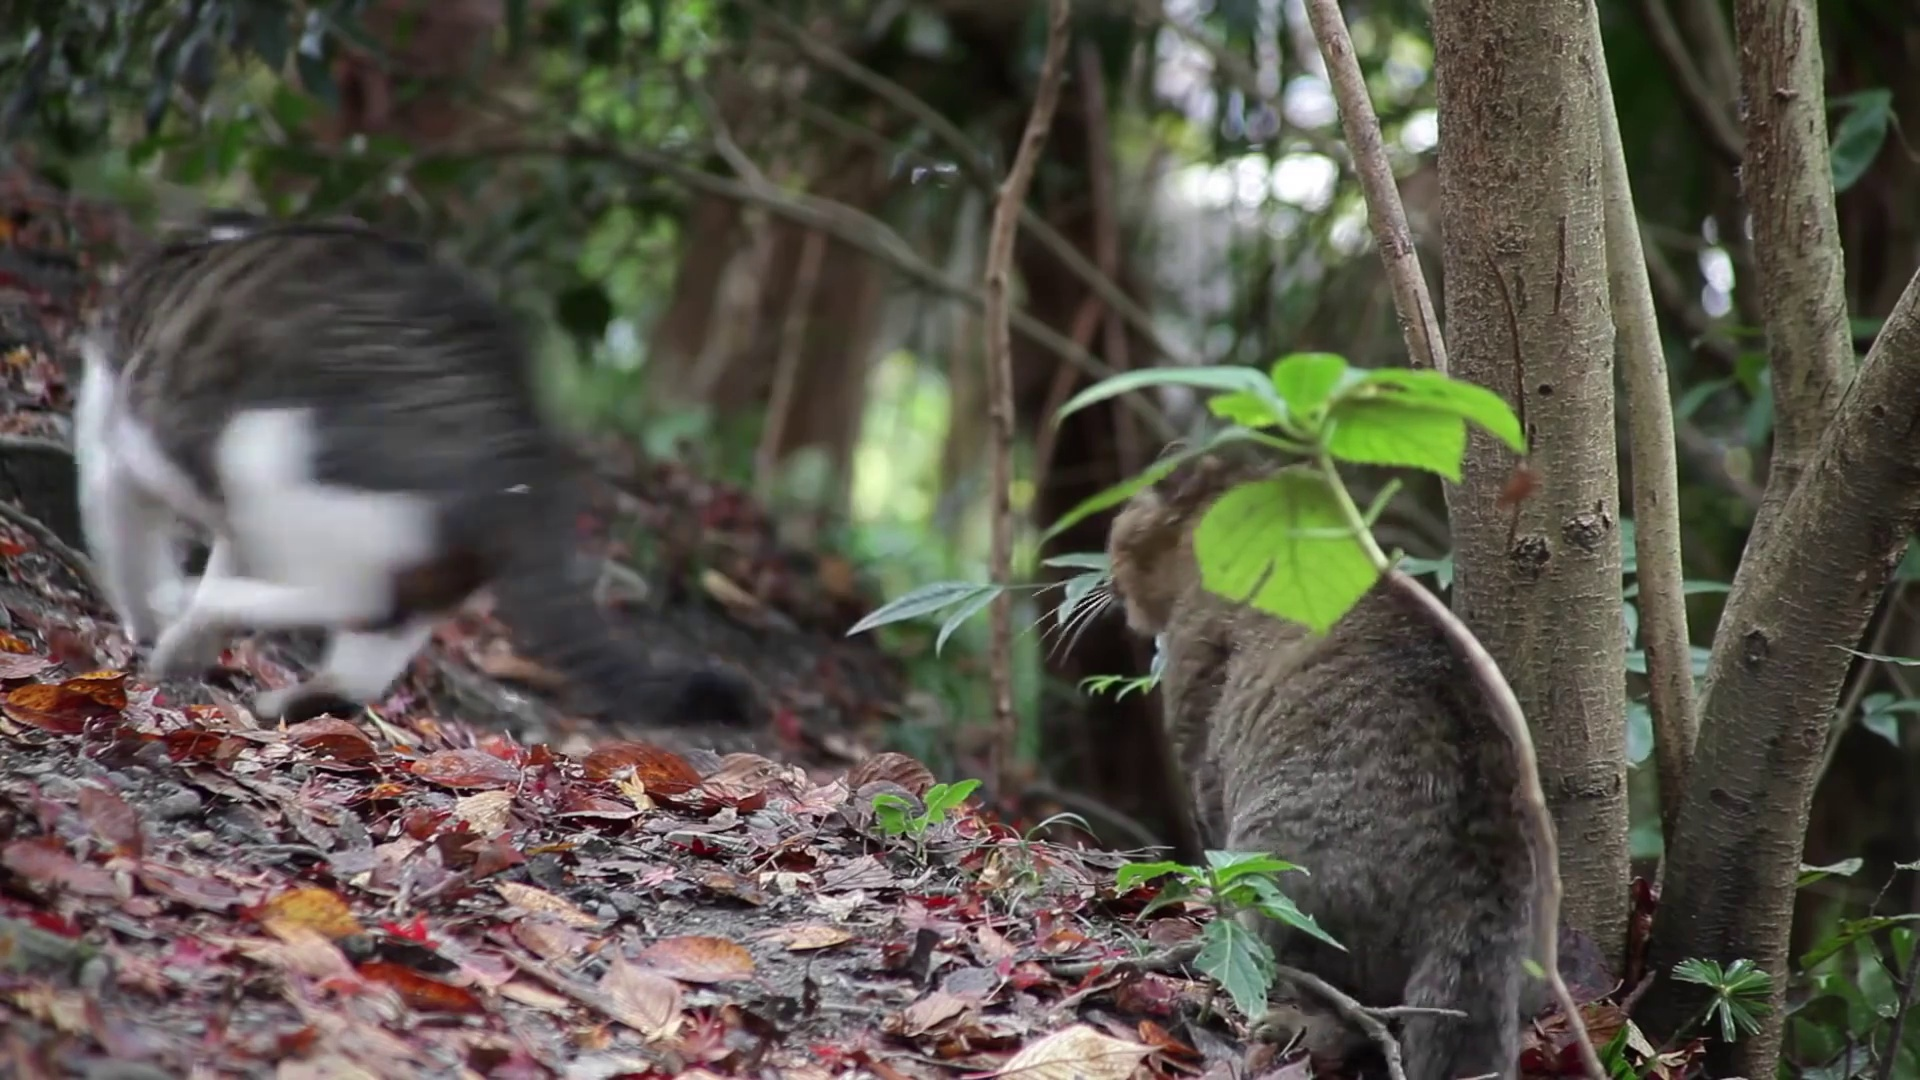black-white: (65, 214, 771, 731)
pure black: (1106, 433, 1559, 1033)
